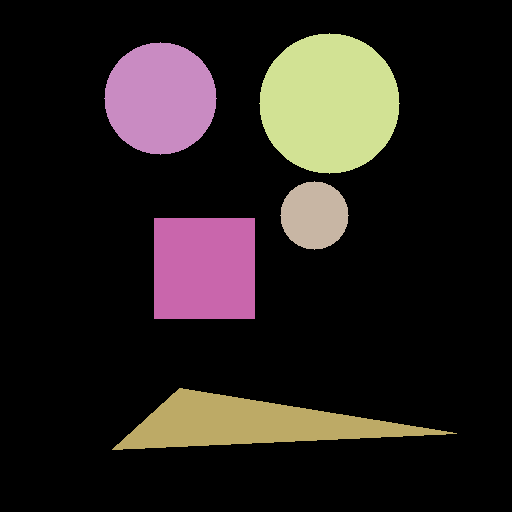circle: (259, 33, 399, 173), (104, 42, 216, 154), (280, 181, 348, 249)
square: (154, 218, 254, 318)
triangle: (112, 388, 456, 449)
